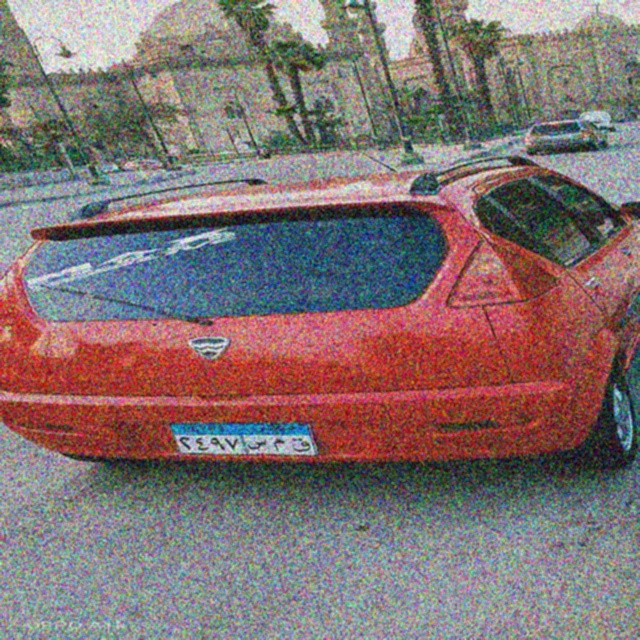License Plate: (166, 420, 320, 457)
